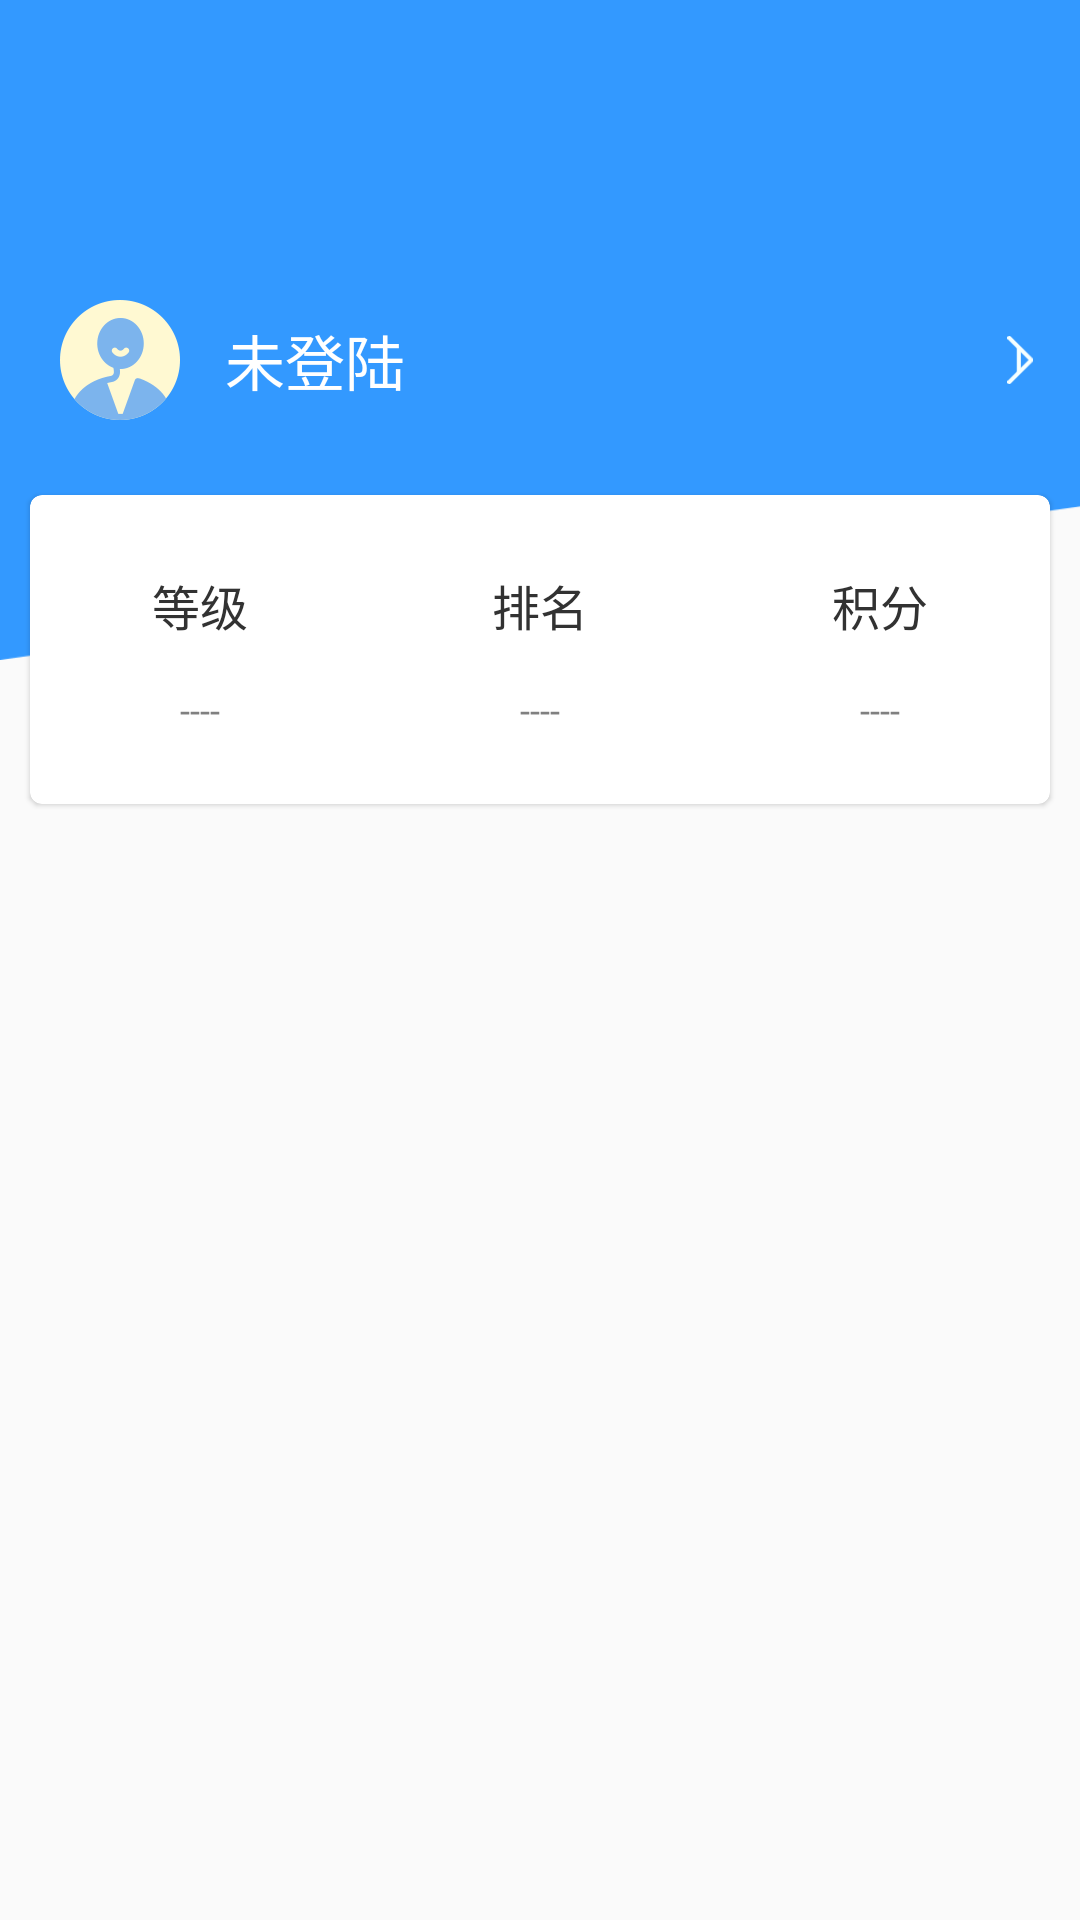

Icon click points for this 1080 × 1920 phone screenshot, format (x=x, y=y):
enter: (x=1020, y=360)
head: (x=120, y=360)
